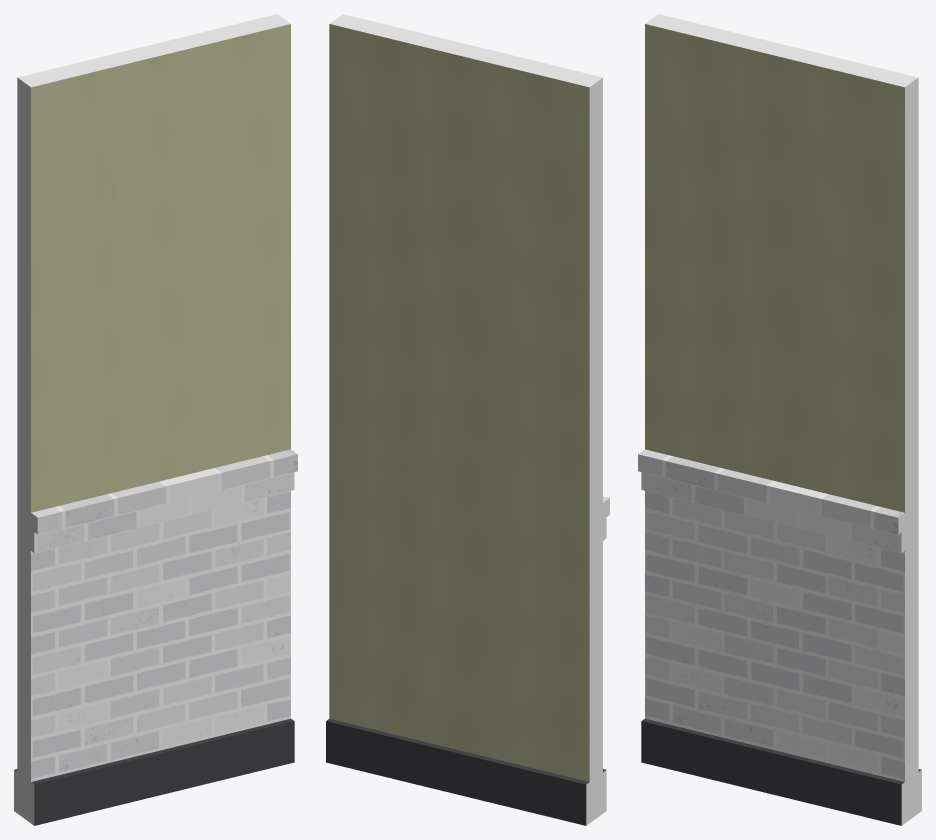
File: SM_Buildings_Wall_1x3_01_WallpaperBack.fbx
3 views of the same model, side by side, from view 1: azimuth 30°, elevation 25°; view 2: azimuth 150°, elevation 25°; view 3: azimuth 330°, elevation 25° (orthographic).
Parts seen in each view (by area): view 1: SM_Buildings_Wall_1x3_01_WallpaperBack; view 2: SM_Buildings_Wall_1x3_01_WallpaperBack; view 3: SM_Buildings_Wall_1x3_01_WallpaperBack.
Part boxes in pixels (box(x1,y1,x2,y2)): SM_Buildings_Wall_1x3_01_WallpaperBack: box(14, 14, 297, 825); SM_Buildings_Wall_1x3_01_WallpaperBack: box(326, 14, 609, 825); SM_Buildings_Wall_1x3_01_WallpaperBack: box(638, 14, 921, 825).
Size of the model in its own units: 111 by 300 by 17.5.
1 material, 1 textured.
